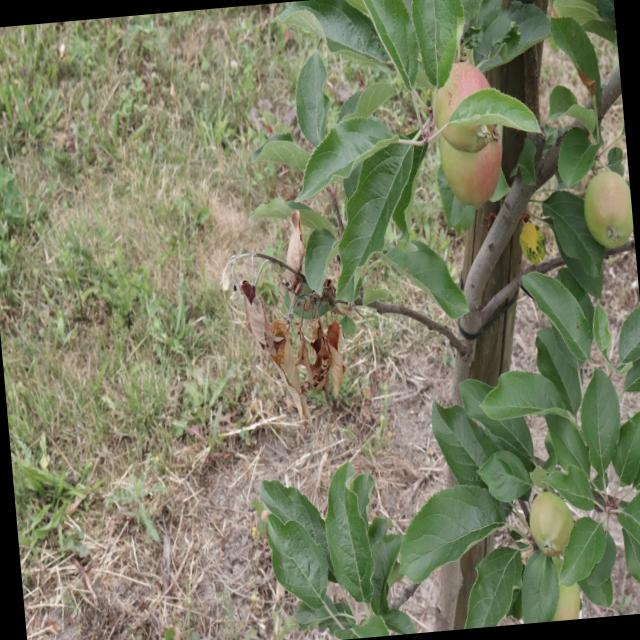-FireBlight-: (218, 247, 273, 354), (264, 312, 314, 423), (305, 312, 350, 398), (282, 216, 308, 278)
